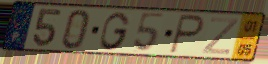0: (60, 8, 92, 51)
5: (131, 11, 167, 54), (32, 6, 64, 49)
G: (98, 11, 132, 52)
P: (168, 12, 206, 56)
Z: (200, 17, 241, 57)
